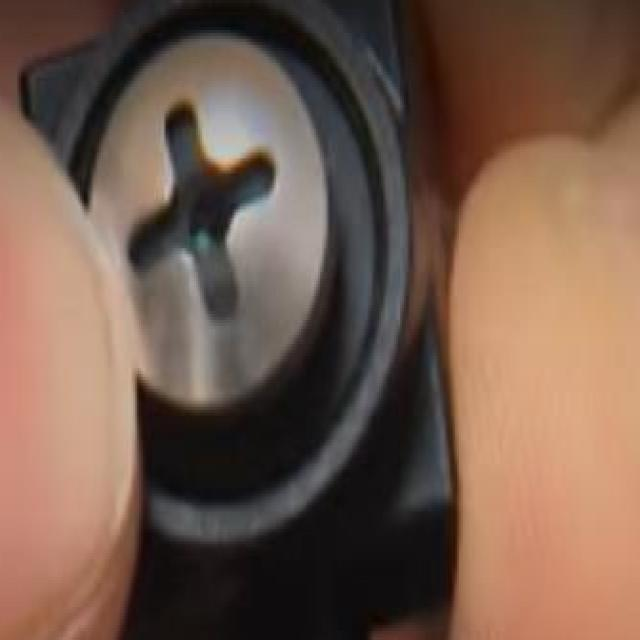hidden camera: (167, 155, 248, 284)
